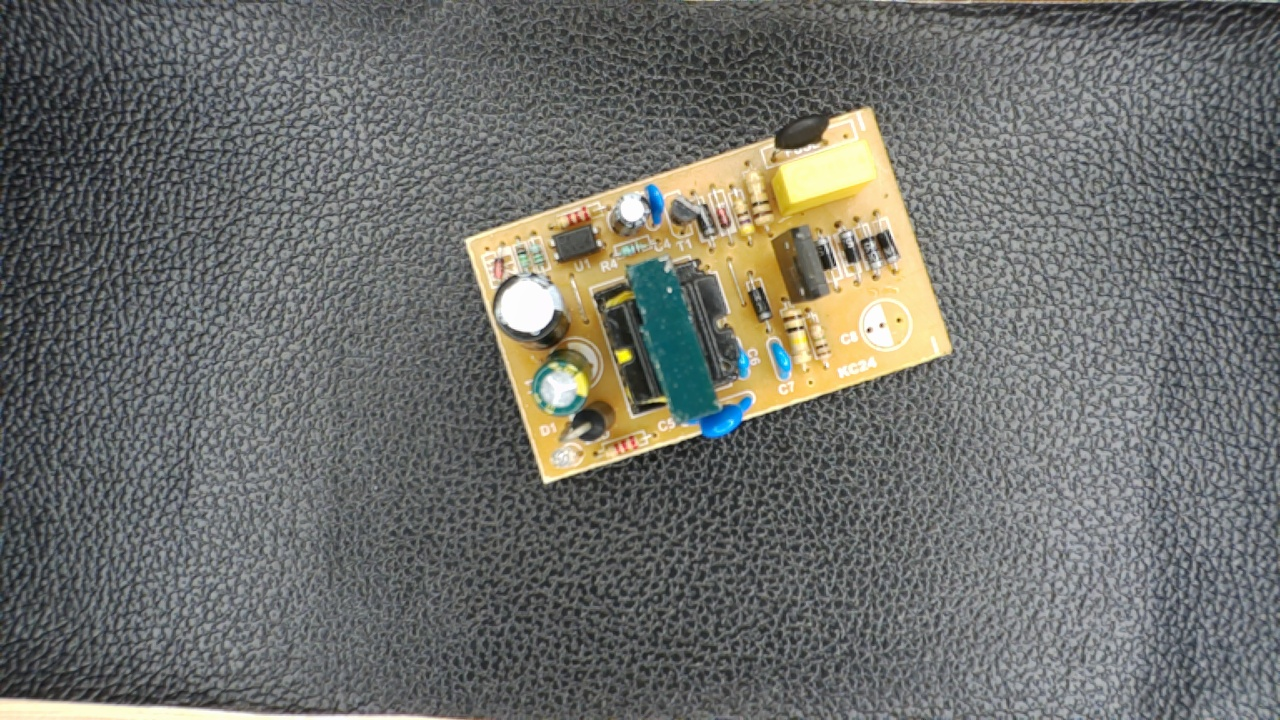fuse: (765, 110, 836, 164)
mov: (680, 389, 762, 443)
optocoupler: (543, 222, 606, 267)
